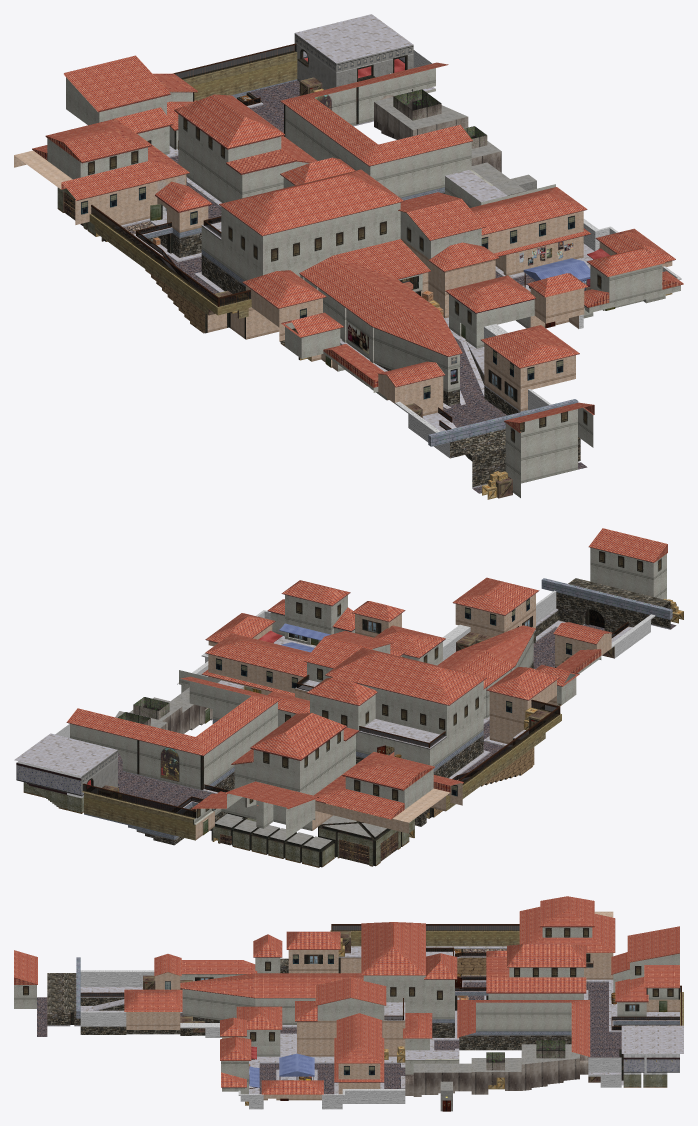
Rendered from italy.glb.
The picture shows the model from 3 angles, top to bottom: view 1: azimuth 30°, elevation 25°; view 2: azimuth 150°, elevation 25°; view 3: azimuth 270°, elevation 25°; orthographic projection. The views are drawn at different scales.
Visible parts, largest first — view 1: Object_18, Object_17, Object_31, Object_28, Object_53, Object_21, Object_27, Object_11, Object_43, Object_36, Object_12, Object_59 (+14 smaller); view 2: Object_18, Object_17, Object_31, Object_53, Object_11, Object_27, Object_76, Object_43, Object_59, Object_28, Object_36, Object_21 (+16 smaller); view 3: Object_18, Object_17, Object_53, Object_28, Object_16, Object_12, Object_43, Object_31, Object_59, Object_10, Object_21, Object_20 (+14 smaller).
Boxes of the visible parts, x1,y1,x2,y2 form: Object_18: (32, 55, 683, 432); Object_17: (151, 68, 680, 497); Object_31: (80, 114, 609, 449); Object_28: (75, 197, 672, 415); Object_53: (115, 14, 594, 488); Object_21: (47, 77, 534, 358); Object_27: (75, 181, 583, 407); Object_11: (89, 51, 297, 318); Object_43: (166, 80, 587, 493); Object_36: (14, 150, 584, 406); Object_12: (374, 89, 525, 195); Object_59: (159, 258, 580, 487); Object_18: (67, 528, 667, 819); Object_17: (70, 562, 666, 830); Object_31: (253, 547, 666, 802); Object_53: (14, 609, 670, 811); Object_11: (82, 707, 561, 840); Object_27: (208, 593, 575, 798); Object_76: (23, 782, 414, 867); Object_43: (118, 624, 676, 810); Object_59: (530, 578, 670, 709); Object_28: (195, 607, 563, 839); Object_36: (203, 613, 611, 833); Object_21: (194, 645, 576, 839); Object_18: (14, 896, 679, 1094); Object_17: (14, 974, 678, 1094); Object_53: (47, 946, 683, 1094); Object_28: (126, 957, 679, 1100); Object_16: (80, 970, 621, 1109); Object_12: (405, 1040, 588, 1096); Object_43: (37, 982, 621, 1094); Object_31: (14, 927, 592, 1045); Object_59: (47, 958, 288, 1035); Object_10: (432, 992, 679, 1050); Object_21: (317, 953, 679, 1050); Object_20: (413, 965, 592, 1111).
Size of the model in its own units: 73.63 by 19.55 by 134.
87 materials, 87 textured.
